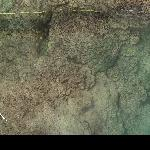dead: (1, 1, 149, 133)
